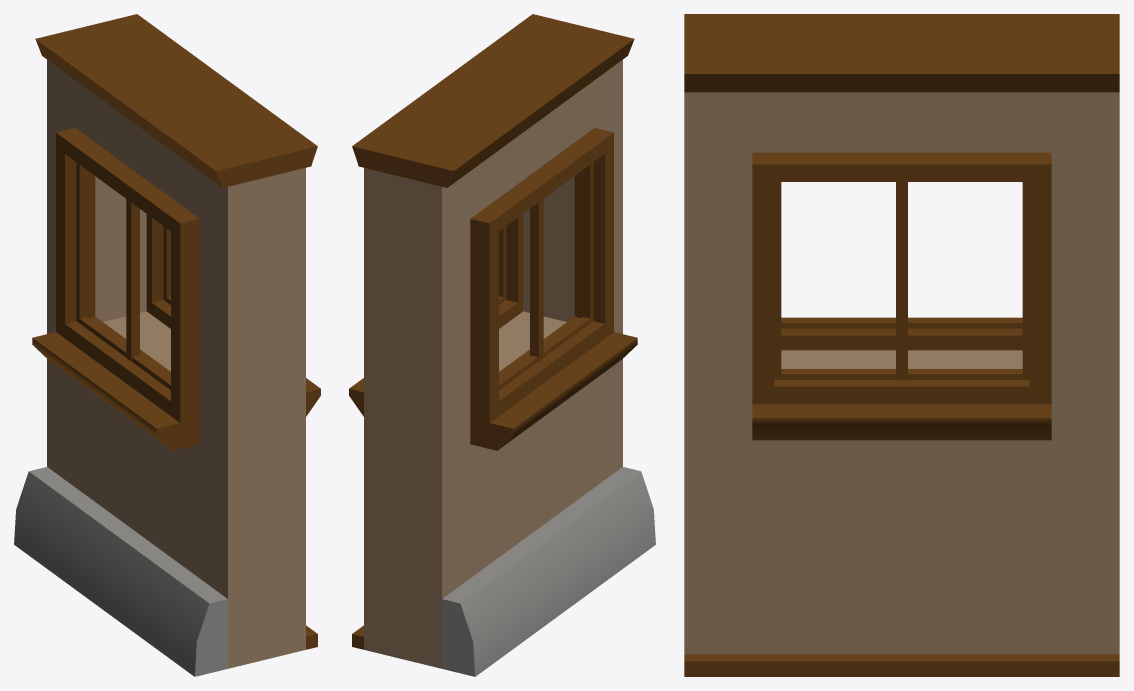
The model's file is SM_Wall_Window_v2.fbx.
The picture shows the model from 3 angles, left to right: view 1: azimuth 30°, elevation 25°; view 2: azimuth 150°, elevation 25°; view 3: azimuth 270°, elevation 25°; orthographic projection. The views are drawn at different scales.
Parts seen in each view (by area): view 1: SM_Wall_Window_v2; view 2: SM_Wall_Window_v2; view 3: SM_Wall_Window_v2.
Boxes of the visible parts, x1,y1,x2,y2 form: SM_Wall_Window_v2: (14,14,320,676); SM_Wall_Window_v2: (349,14,655,676); SM_Wall_Window_v2: (684,14,1119,676).
Size of the model in its own units: 105 by 306 by 200.
